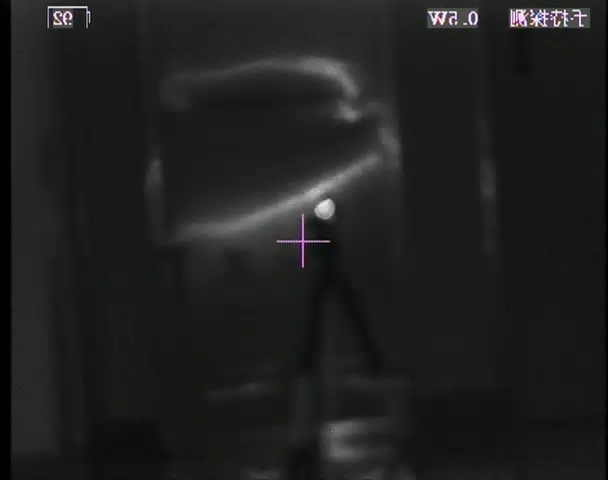my: (311, 196, 336, 221)
